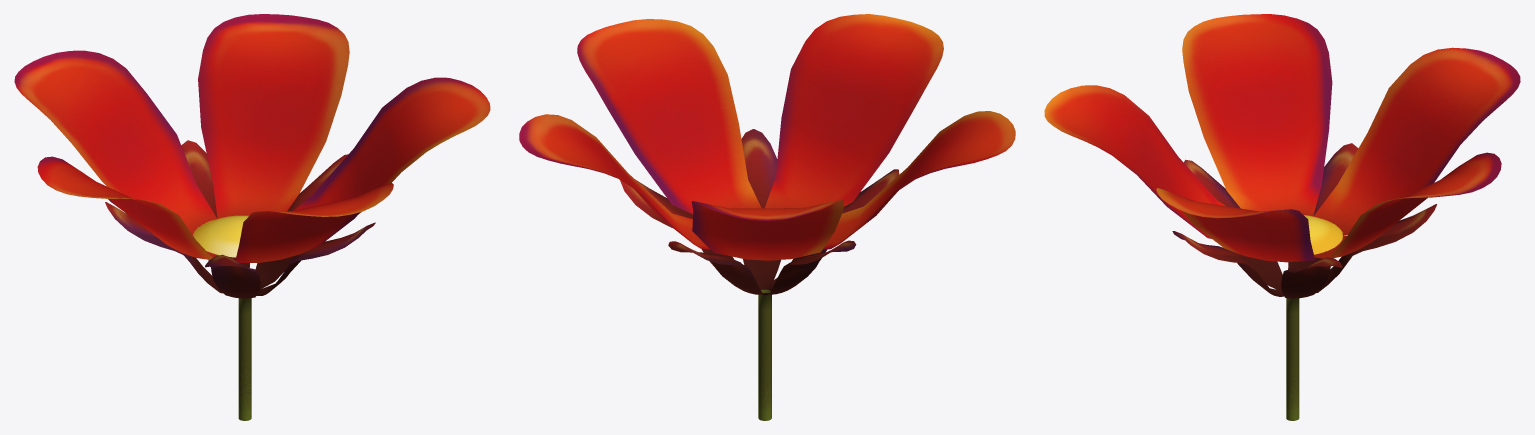
Rendered from Flower.fbx.
The picture shows the model from 3 angles, left to right: view 1: azimuth 30°, elevation 25°; view 2: azimuth 150°, elevation 25°; view 3: azimuth 270°, elevation 25°; orthographic projection. The views are drawn at different scales.
Parts seen in each view (by area): view 1: Flower; view 2: Flower; view 3: Flower.
Part boxes in pixels (x1,y1,x2,y2): Flower: (14, 14, 490, 420); Flower: (519, 14, 1015, 420); Flower: (1044, 14, 1520, 420).
Bounding box in the file's own units: 0.8414 × 0.5761 × 0.826.
